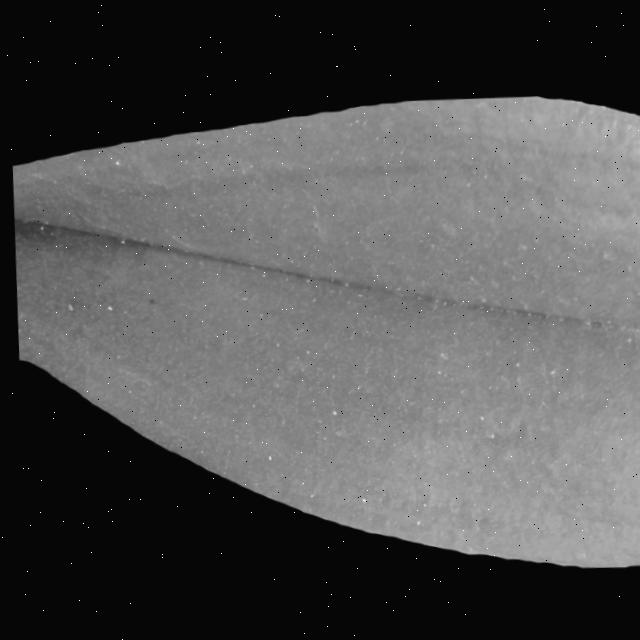mite: (57, 292, 159, 322), (59, 298, 114, 316), (33, 220, 54, 240), (292, 346, 313, 363), (139, 293, 158, 311), (98, 300, 115, 316), (349, 494, 367, 509), (256, 452, 273, 467), (107, 156, 124, 170), (61, 302, 72, 313), (143, 297, 154, 307), (324, 410, 334, 420), (298, 349, 308, 359), (471, 416, 481, 426), (34, 222, 44, 232), (101, 304, 111, 313), (110, 159, 120, 168), (259, 455, 269, 464), (353, 498, 363, 507), (244, 402, 253, 411)
spots: (11, 97, 640, 579)
